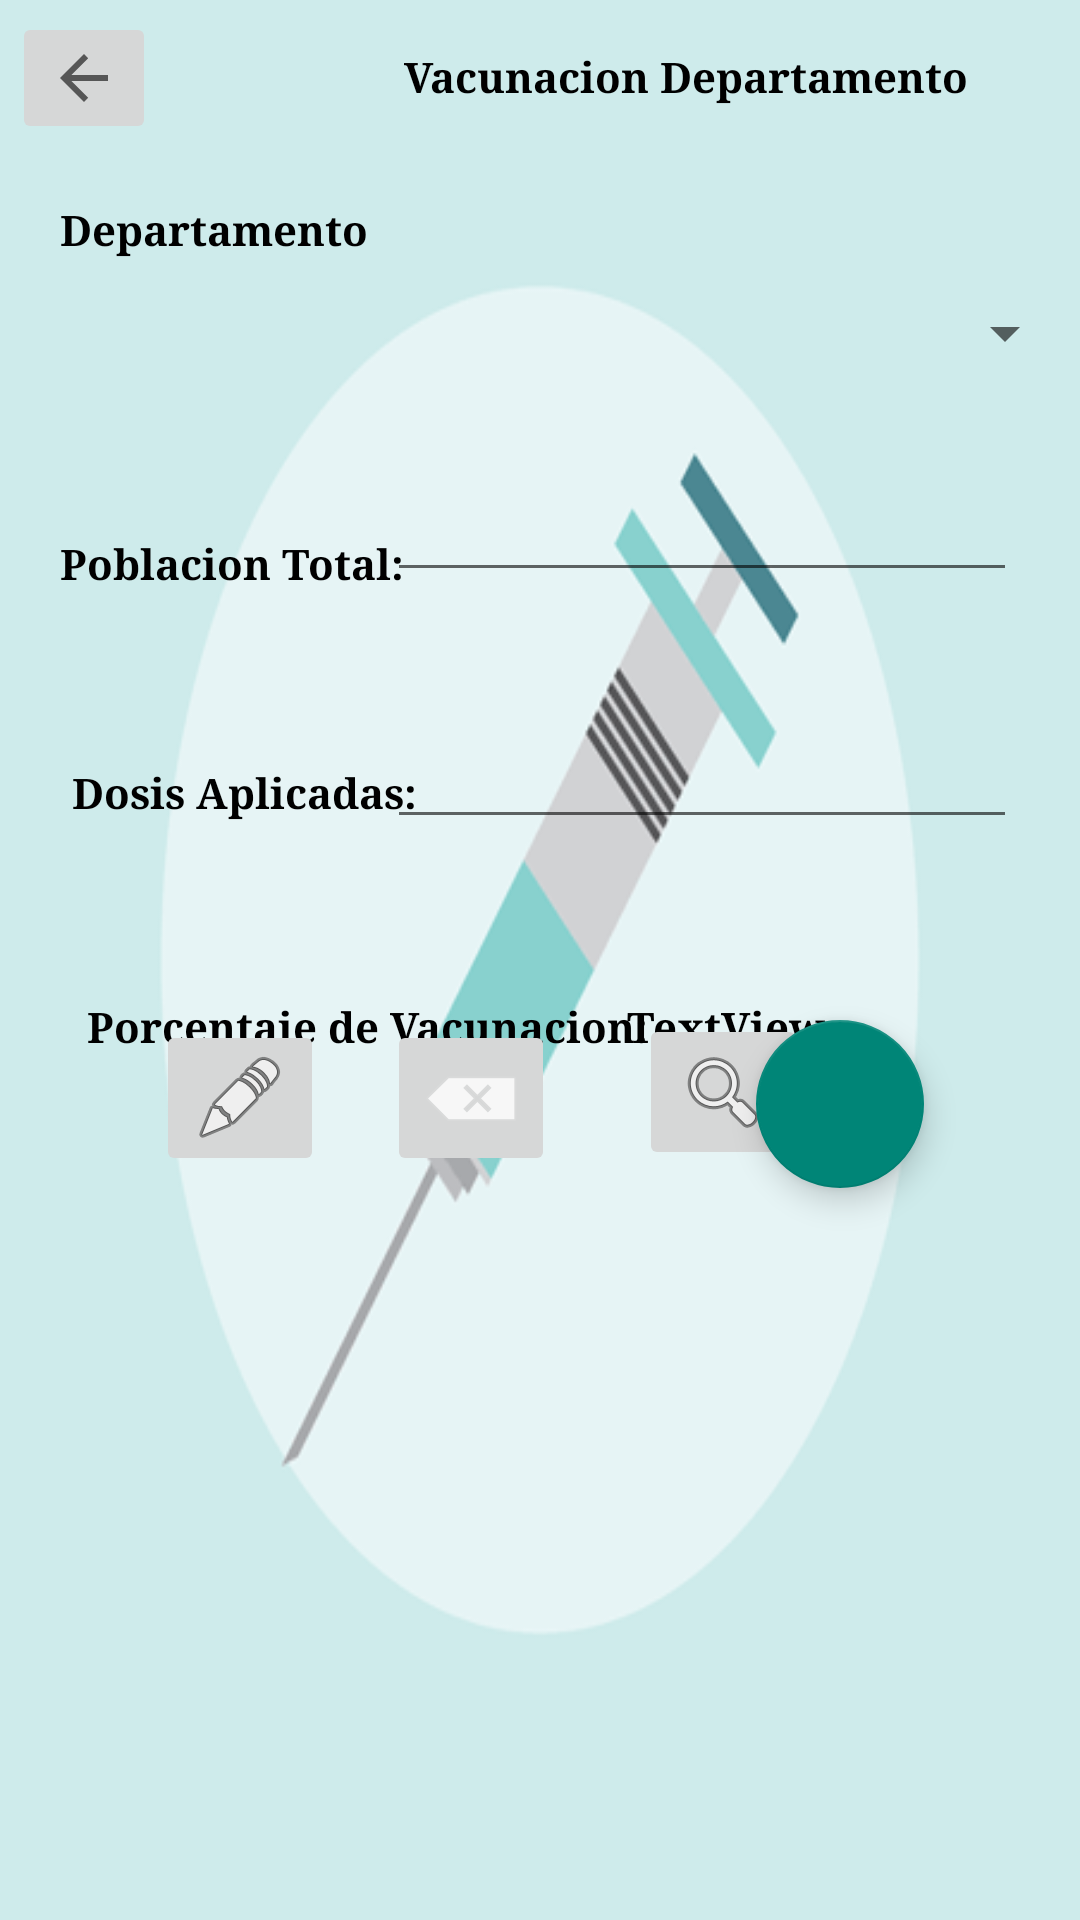

Screen size 1080×1920. Icon name, then its box in pixels as [x1, y1, x2, y2]:
delete: [394, 1020, 555, 1176]
edit: [160, 1020, 316, 1176]
